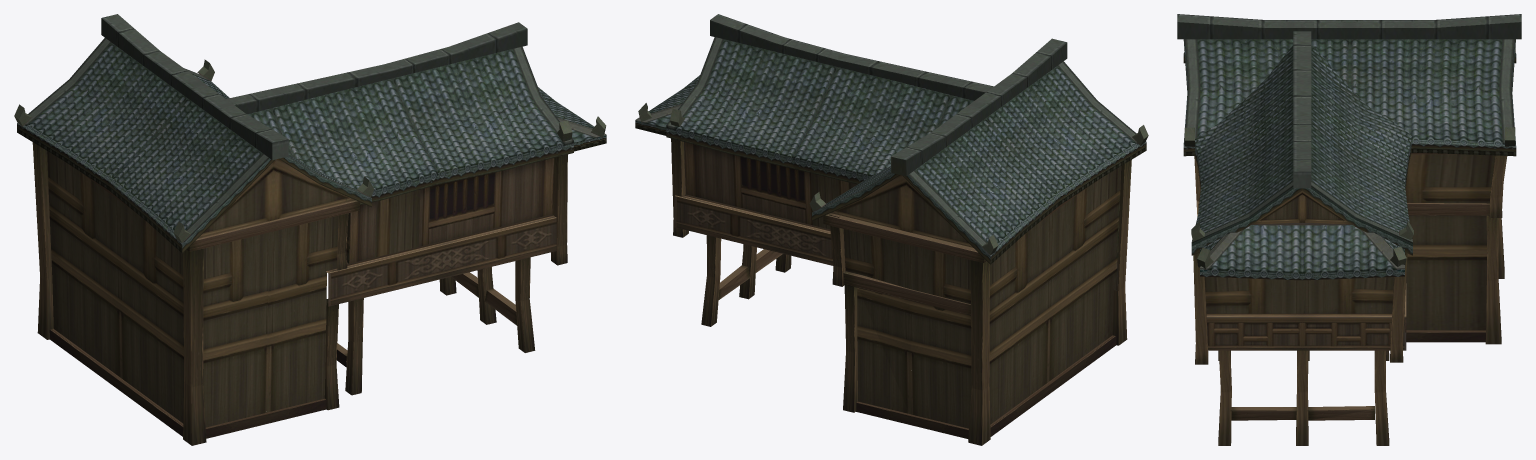
File: ZZL_building_02.FBX
3 views of the same model, side by side, from view 1: azimuth 30°, elevation 25°; view 2: azimuth 150°, elevation 25°; view 3: azimuth 270°, elevation 25° (orthographic). The views are drawn at different scales.
Parts seen in each view (by area): view 1: ZZL_building_02; view 2: ZZL_building_02; view 3: ZZL_building_02.
Part boxes in pixels (<box>): ZZL_building_02: <box>14,14,606,445</box>; ZZL_building_02: <box>635,14,1148,445</box>; ZZL_building_02: <box>1177,14,1521,445</box>.
Bounding box in the file's own units: 1848 × 1178 × 1252.
